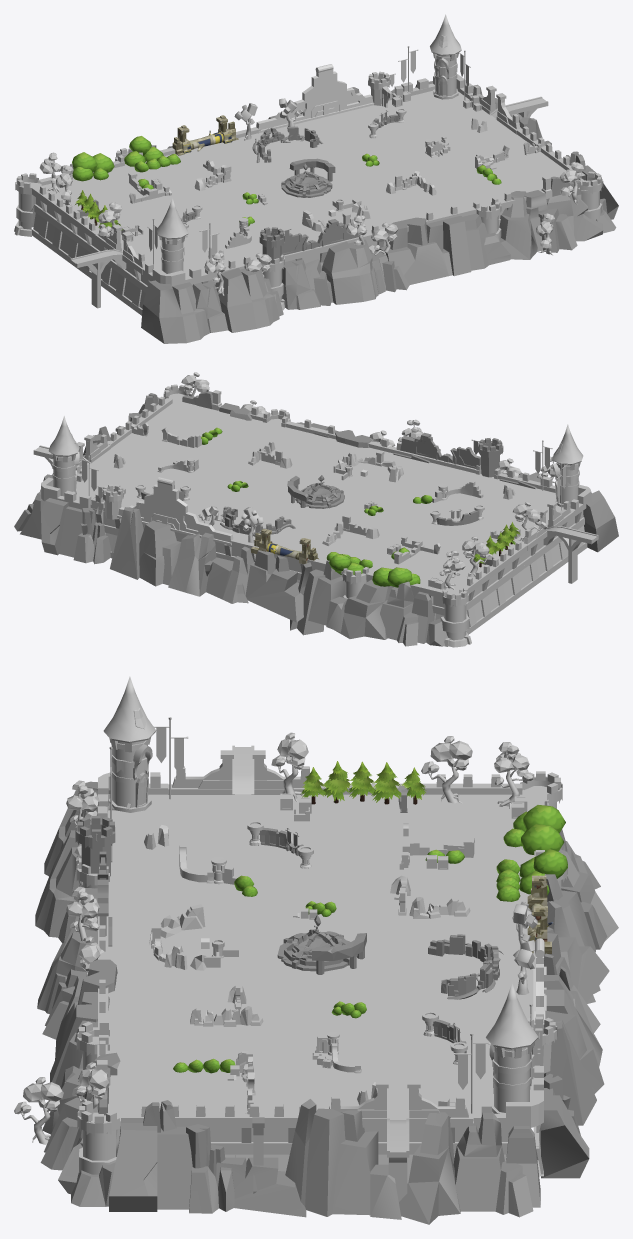
The model's file is FBX@diban_2.FBX.
3 views of the same model, one above another, from view 1: azimuth 30°, elevation 25°; view 2: azimuth 150°, elevation 25°; view 3: azimuth 270°, elevation 25° (orthographic). The views are drawn at different scales.
Parts seen in each view (by area): view 1: Terrain, Hill, Wall_01, Tower_01, Wall_02, Tower_03, Box001, zhongxinshuijingta_01, Tower_02 (×2), Wall_04, Grass_03, Object007 (+14 smaller); view 2: Terrain, Hill, Wall_01, Tower_01, Wall_02, Tower_03, Box001, Tower_02 (×2), Object007, zhongxinshuijingta_01, Wall_03, Wall_04 (+16 smaller); view 3: Terrain, Hill, Tower_01, Wall_02, Wall_01, Tower_03, zhongxinshuijingta_01, Tower_02 (×2), sitou, shidui_06, Grass_06, Grass_03 (+16 smaller).
Part boxes in pixels (x1,y1,x2,y2): Terrain: [22, 91, 591, 276]; Hill: [31, 81, 618, 343]; Wall_01: [31, 97, 585, 315]; Tower_01: [142, 14, 472, 286]; Wall_02: [70, 85, 548, 308]; Tower_03: [14, 148, 603, 310]; Box001: [256, 71, 374, 133]; zhongxinshuijingta_01: [281, 158, 335, 197]; Tower_02 (×2): [259, 71, 395, 263]; Wall_04: [172, 115, 238, 155]; Grass_03: [124, 136, 180, 172]; Object007: [282, 219, 358, 255]; Terrain: [76, 393, 563, 599]; Hill: [14, 391, 618, 646]; Wall_01: [90, 398, 587, 634]; Tower_01: [41, 416, 591, 516]; Wall_02: [33, 434, 598, 583]; Tower_03: [163, 384, 503, 647]; Box001: [117, 484, 233, 545]; Tower_02 (×2): [96, 438, 503, 519]; Object007: [400, 432, 480, 468]; zhongxinshuijingta_01: [287, 475, 344, 508]; Wall_03: [110, 396, 529, 585]; Wall_04: [251, 529, 319, 564]; Terrain: [80, 786, 548, 1122]; Hill: [35, 781, 618, 1224]; Tower_01: [98, 676, 543, 1127]; Wall_02: [168, 745, 473, 1201]; Wall_01: [97, 783, 544, 1183]; Tower_03: [76, 771, 567, 1174]; zhongxinshuijingta_01: [277, 914, 366, 974]; Tower_02 (×2): [75, 816, 557, 1073]; sitou: [428, 934, 503, 999]; shidui_06: [149, 904, 238, 970]; Grass_06: [503, 805, 565, 854]; Grass_03: [496, 849, 567, 901].
Size of the model in its own units: 10946 by 2762 by 6906.
